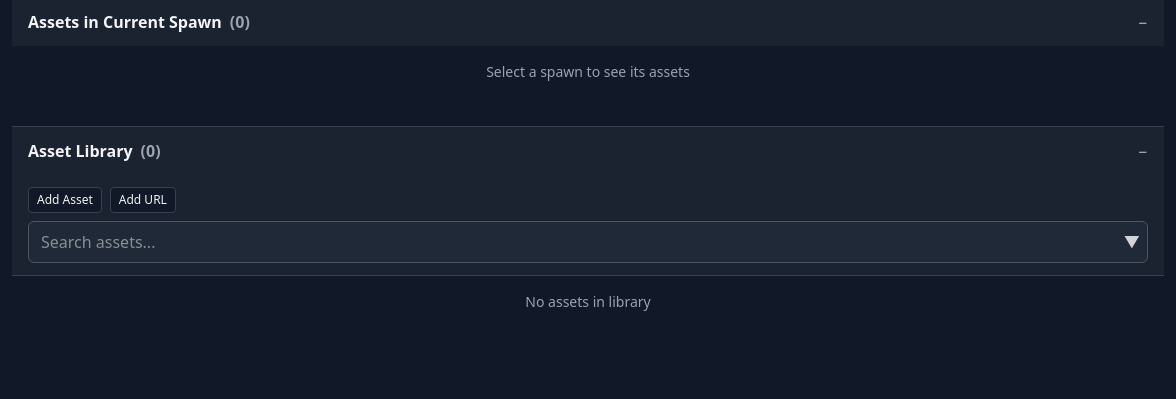
AssetManagementPanel (Core Functionality) › Asset Library Basics (MS-34) › adds a URL asset with format validation and updates count
Open add URL
Click the button with aria-label "Add URL Asset" at (143, 200), box [110,187,176,213]
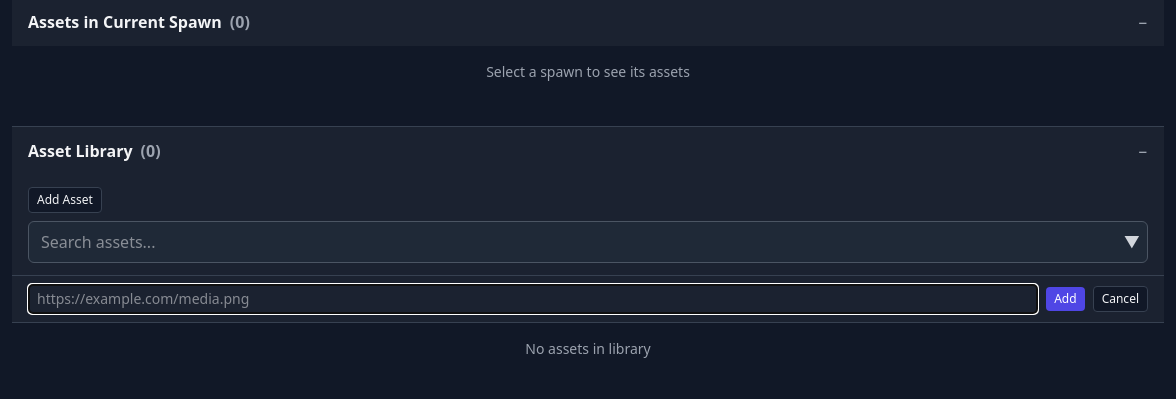
Type "notaurl" into the field named "Asset URL" at (533, 299), box [28,284,1038,314]
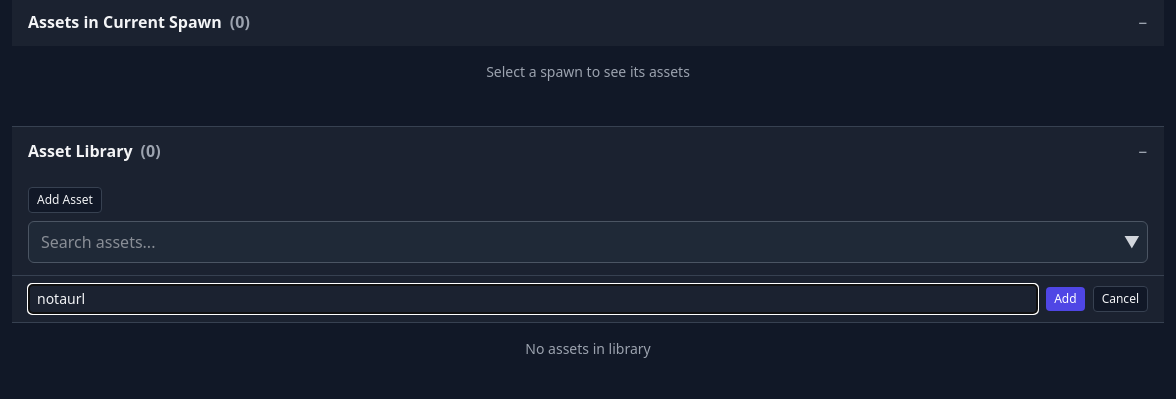
Click the button "Add" at (1065, 299), box [1046,287,1085,311]
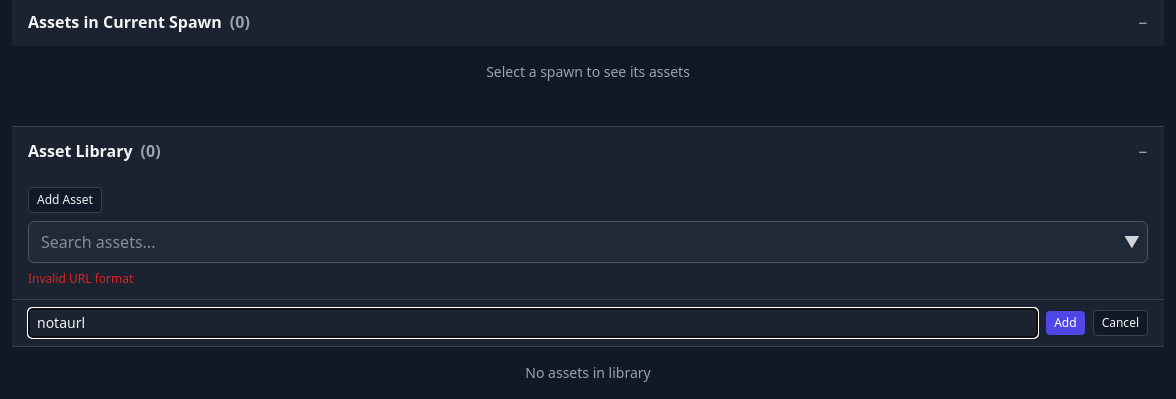
Now the message reads "Invalid URL format", box [28,270,133,287]
Valid add
Replace the text in the field named "Asset URL" with "https://example.com/file.png" at (533, 323), box [28,308,1038,338]
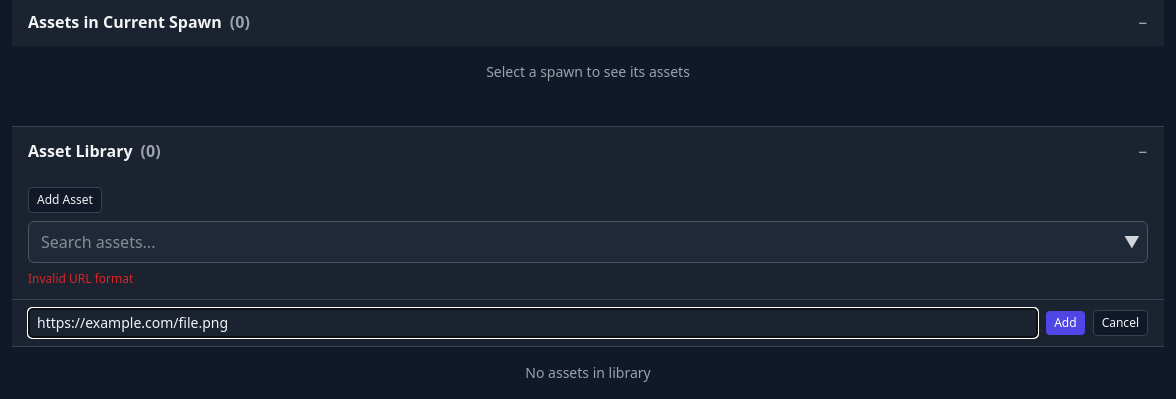
Click the button "Add" at (1065, 323), box [1046,311,1085,335]
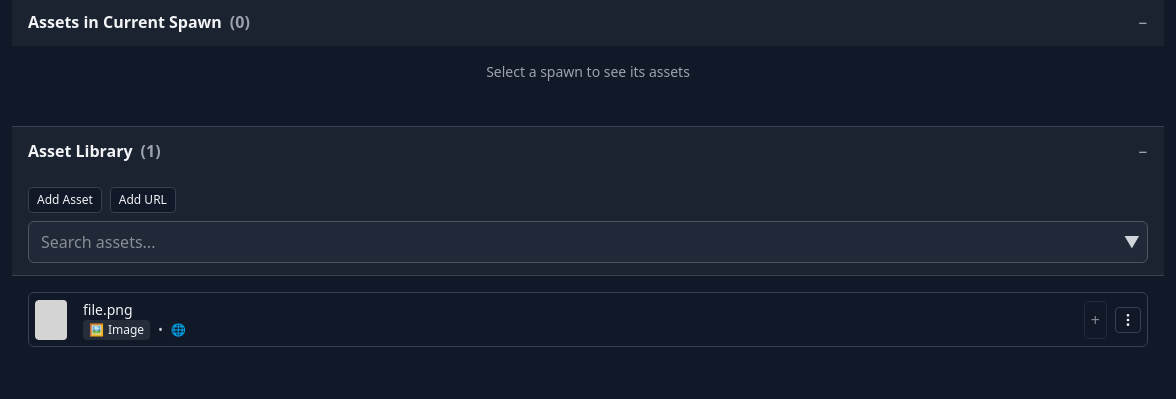
Now the button "Asset Library (1) −" is shown, box [12,127,1164,175]
